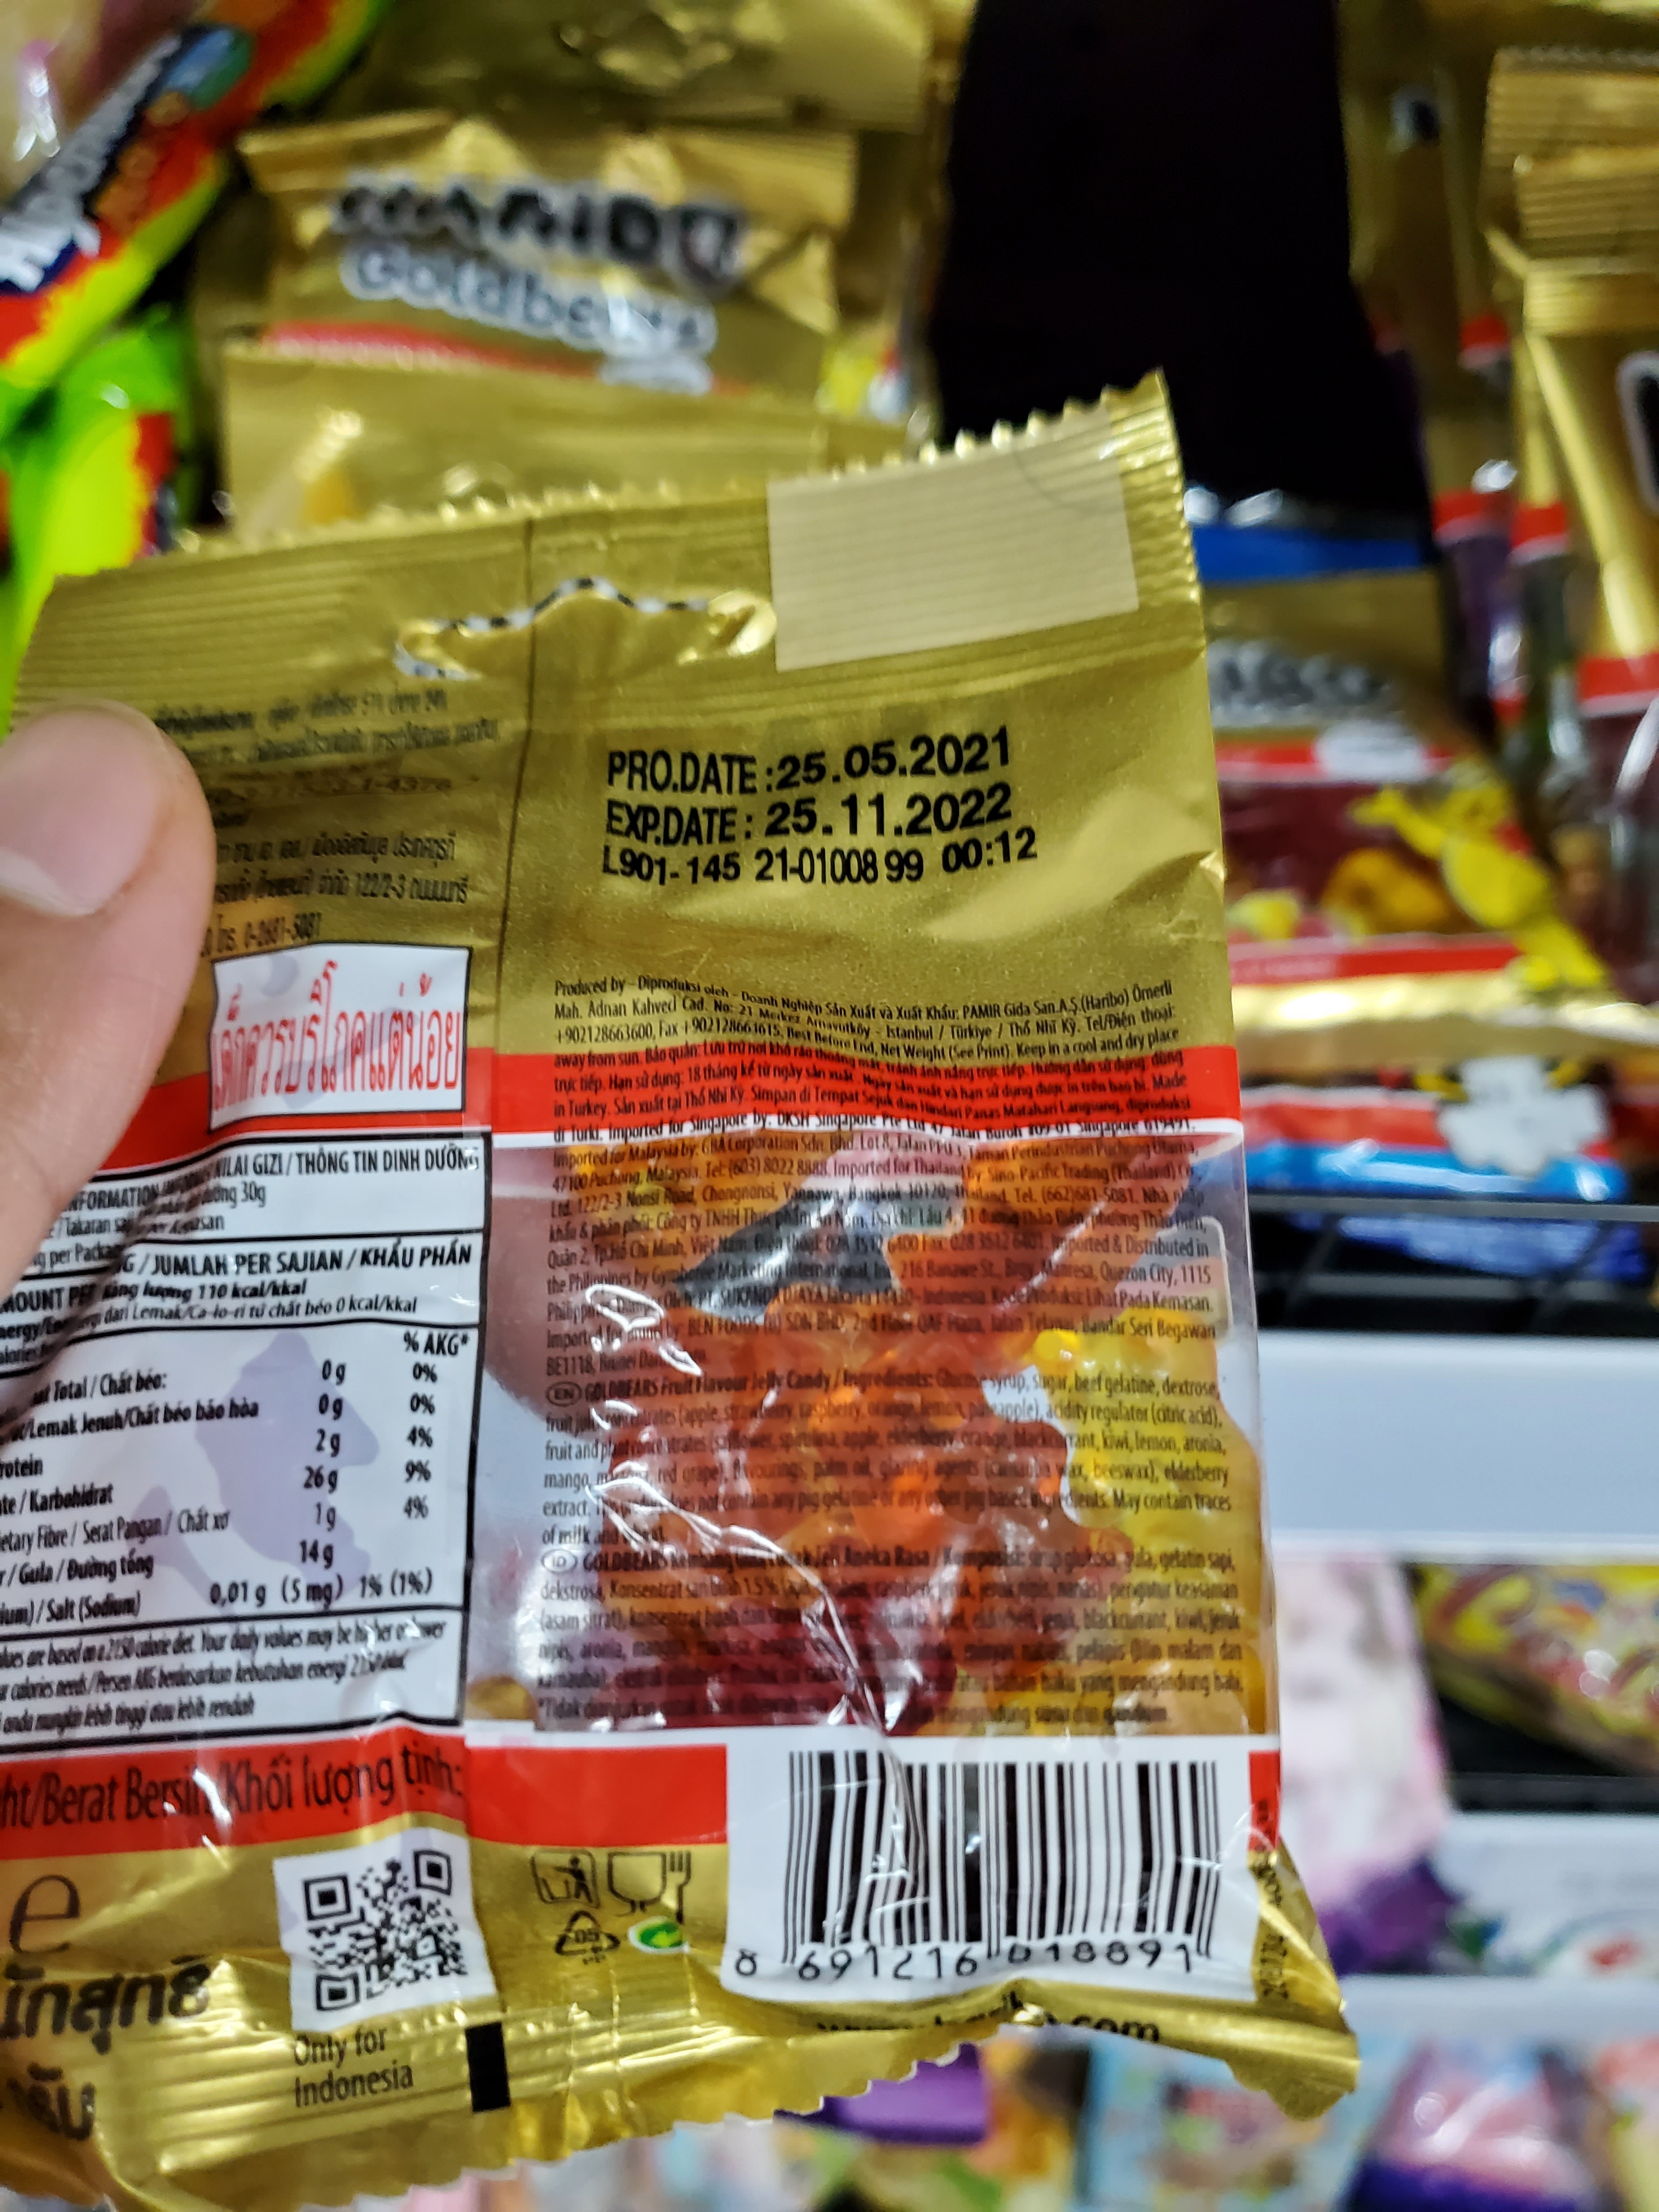BARCODE: (718, 1724, 1249, 1994)
QR CODE: (256, 1831, 488, 2029)
